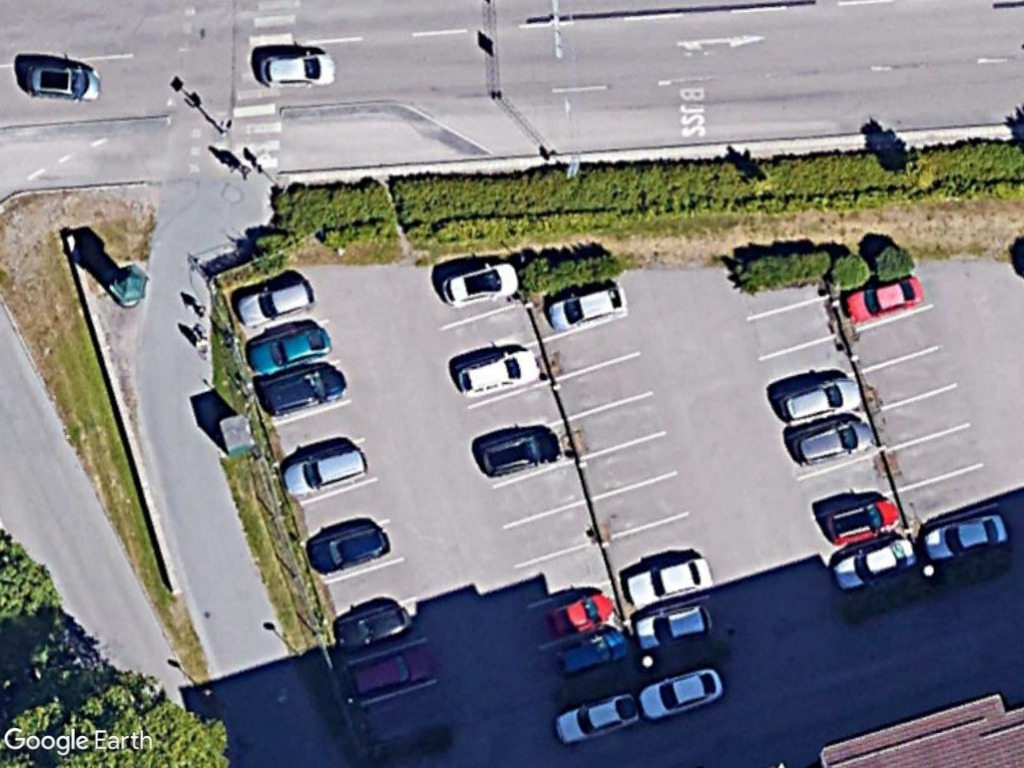car: (343, 640, 437, 705), (551, 685, 641, 749), (829, 532, 921, 594), (622, 552, 716, 612), (254, 361, 351, 419), (636, 664, 727, 725), (280, 442, 370, 503), (789, 411, 877, 473), (917, 509, 1011, 567), (245, 323, 334, 382), (304, 520, 391, 579), (453, 345, 543, 402), (776, 371, 864, 429), (232, 274, 319, 332), (819, 491, 904, 549), (475, 426, 563, 482), (543, 281, 631, 336), (331, 600, 415, 655), (632, 600, 713, 655), (439, 258, 522, 311), (842, 276, 926, 327), (23, 57, 106, 105), (255, 48, 339, 92)
